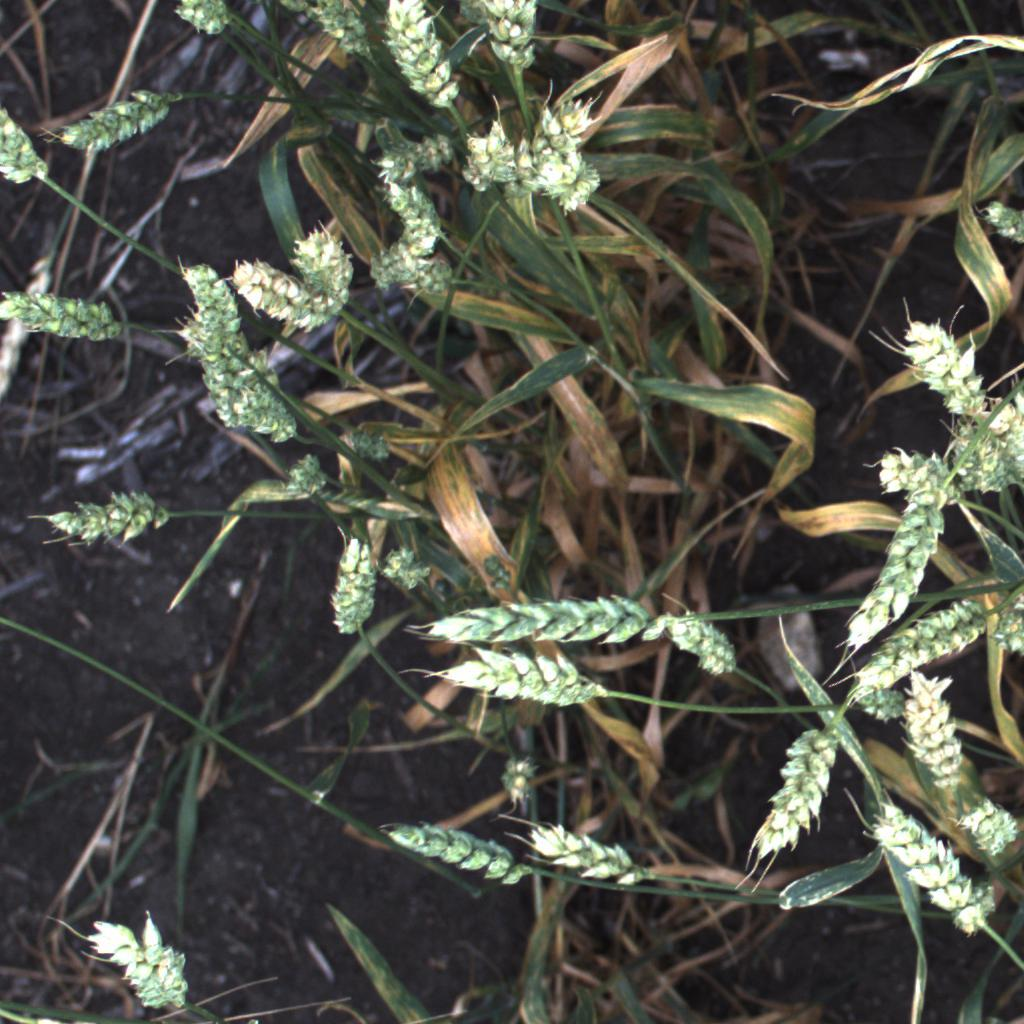0-0: (376, 0, 524, 194), (826, 480, 972, 659), (836, 580, 1002, 724), (858, 788, 1005, 941), (730, 707, 854, 871), (417, 580, 673, 654), (419, 638, 624, 720), (882, 663, 992, 810), (40, 458, 177, 571), (0, 276, 150, 365), (892, 311, 1006, 426), (384, 813, 540, 894), (224, 246, 350, 341), (178, 267, 276, 388), (528, 809, 669, 891), (53, 72, 182, 160), (88, 912, 195, 1013), (653, 600, 751, 687), (319, 518, 384, 641), (278, 217, 357, 308), (865, 440, 969, 507), (366, 213, 450, 293), (295, 0, 380, 75), (373, 175, 459, 249), (949, 788, 1022, 874), (367, 126, 463, 185), (479, 0, 548, 79), (168, 298, 242, 364), (952, 420, 1013, 488), (202, 349, 254, 427), (379, 535, 437, 603), (0, 93, 44, 179), (532, 99, 592, 153), (541, 155, 601, 209), (236, 388, 296, 441), (494, 748, 544, 809), (179, 1, 232, 39), (337, 432, 394, 462), (282, 460, 330, 494)
